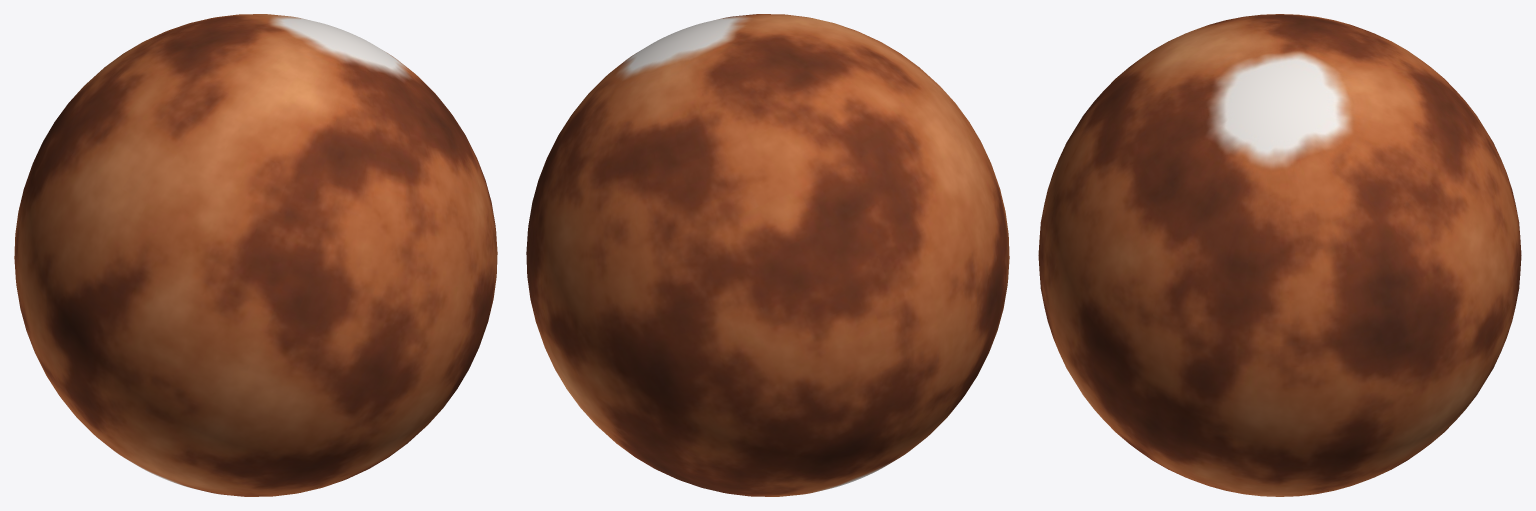
The model's file is mars.glb.
3 views of the same model, side by side, from view 1: azimuth 30°, elevation 25°; view 2: azimuth 150°, elevation 25°; view 3: azimuth 270°, elevation 25° (orthographic).
Parts seen in each view (by area): view 1: mars; view 2: mars; view 3: mars.
Part boxes in pixels (x1,y1,x2,y2): mars: [14, 14, 497, 496]; mars: [526, 14, 1009, 496]; mars: [1038, 14, 1521, 496].
Size of the model in its own units: 2 by 2 by 2.
1 material, 1 textured.
